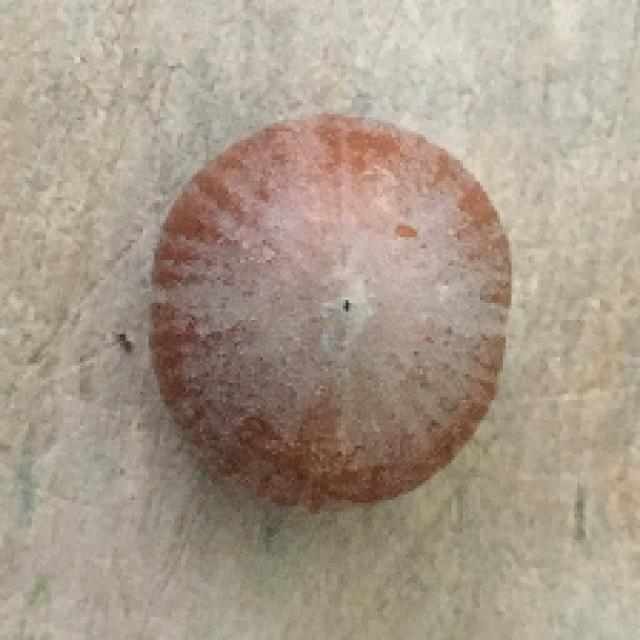QualityHazelnut: (148, 114, 514, 514)
